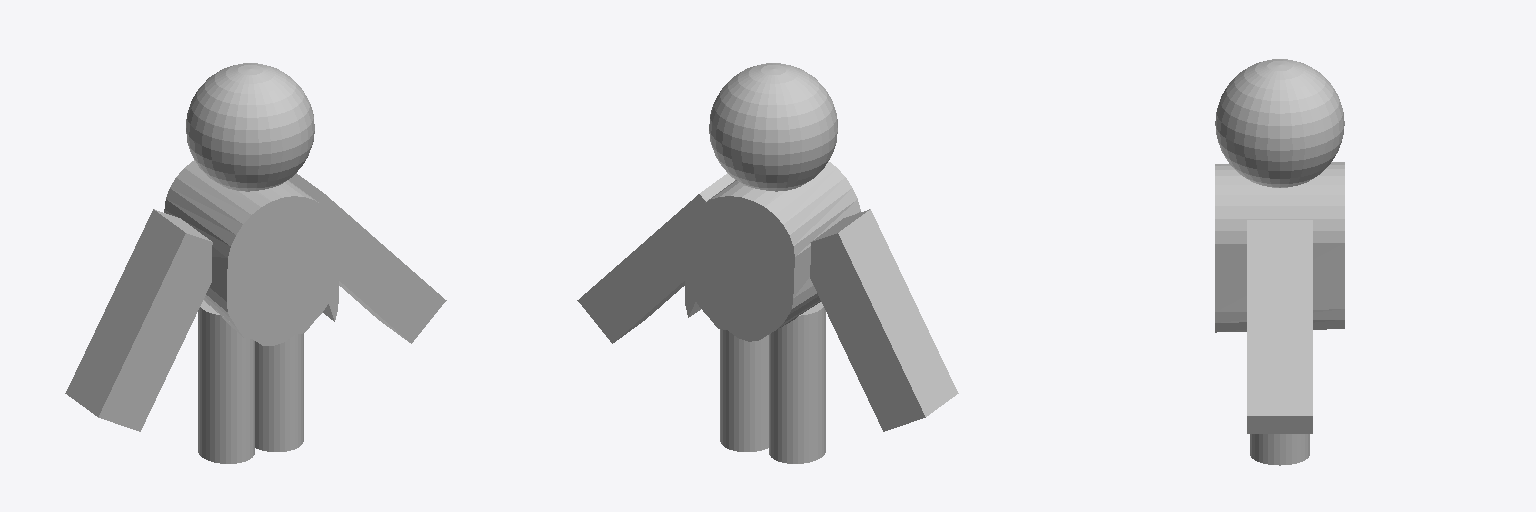
The model's file is Figurine38.obj.
The picture shows the model from 3 angles: view 1: azimuth 30°, elevation 25°; view 2: azimuth 150°, elevation 25°; view 3: azimuth 270°, elevation 25°; orthographic projection.
Parts seen in each view (by area): view 1: Cylinder; view 2: Cylinder; view 3: Cylinder.
Boxes of the visible parts, x1,y1,x2,y2 form: Cylinder: [65, 63, 446, 463]; Cylinder: [577, 63, 958, 463]; Cylinder: [1215, 59, 1344, 465].
Bounding box in the file's own units: 6.21 × 6.42 × 2.